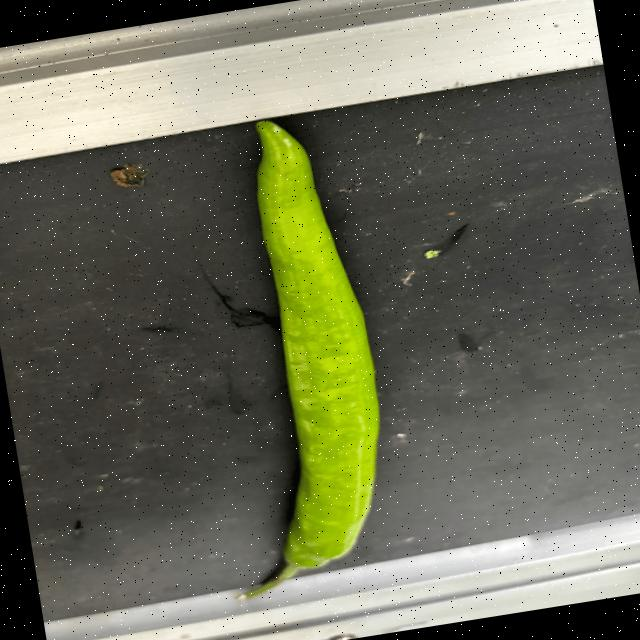chili: (250, 118, 382, 571)
